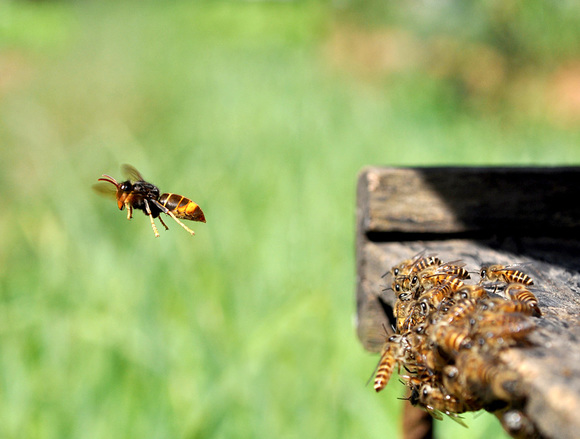bee: (421, 281, 531, 376), (372, 332, 418, 389), (414, 380, 461, 417), (392, 277, 423, 333), (476, 264, 536, 283), (430, 260, 473, 280), (385, 256, 424, 276)
hornet: (96, 172, 215, 243)
